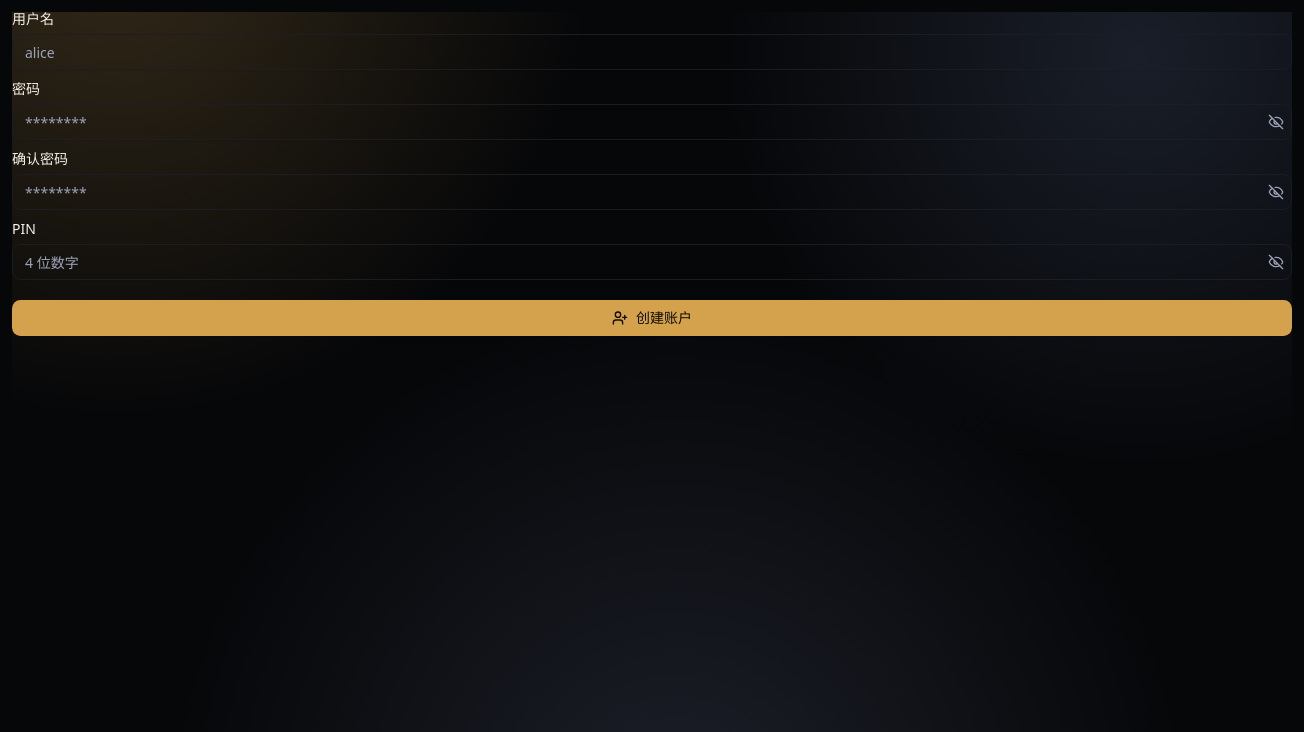
Test: SignUpForm › shows validation messages when submitting empty form
This screenshot has width=1304, height=732.
Click the button "创建账户". click: (652,318)
box: [12,300,1292,336]
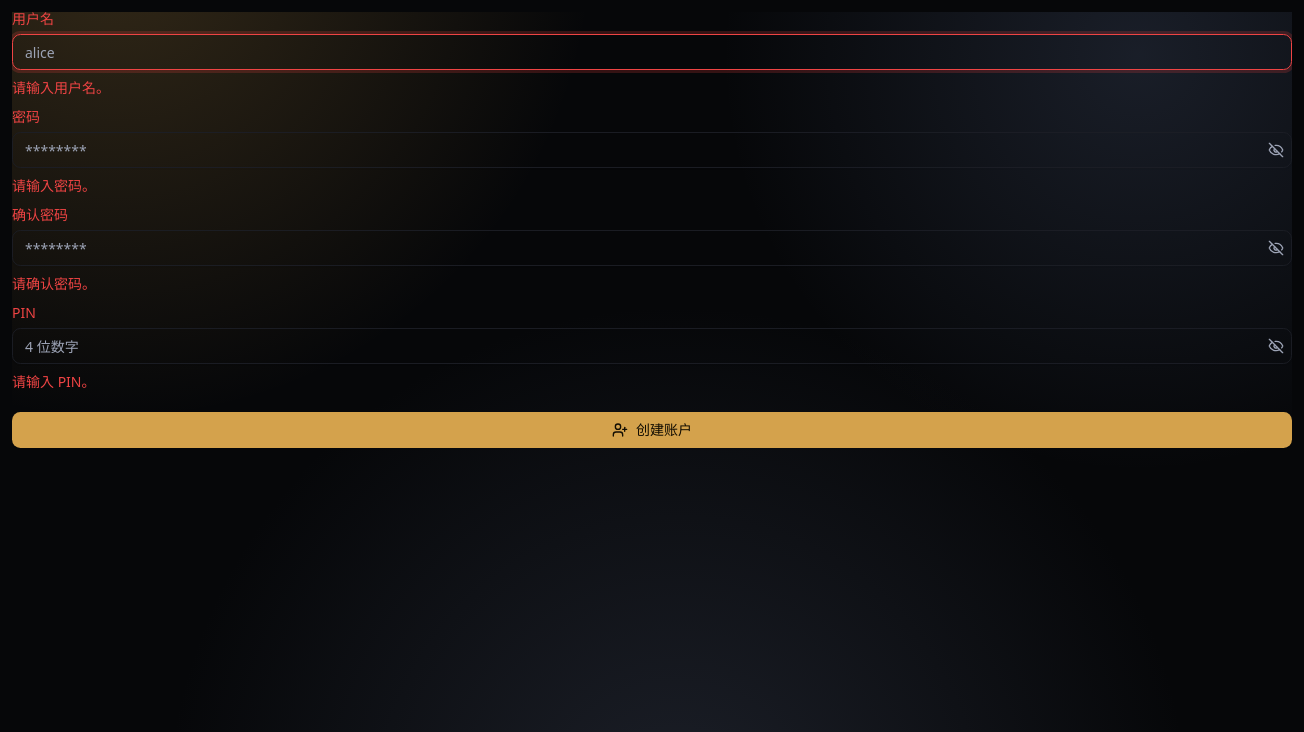
Check: the text "请输入用户名。" is shown, box [12,78,110,97]
Check: the text "请输入密码。" is shown, box [12,176,96,195]
Check: the text "请确认密码。" is shown, box [12,274,96,293]
